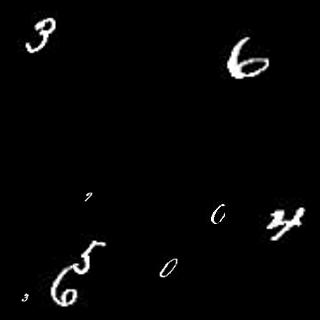five: (74, 238, 109, 276)
four: (261, 202, 303, 241)
nine: (83, 188, 97, 203)
six: (226, 34, 276, 83), (50, 259, 77, 305)
three: (25, 16, 55, 52), (17, 291, 31, 303)
zero: (157, 255, 180, 279), (209, 202, 226, 225)
